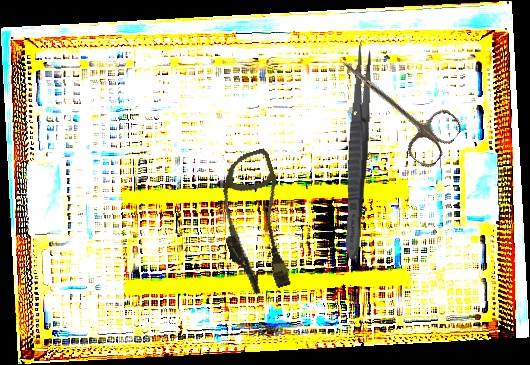Cannula: (203, 147, 307, 299)
Dressing Forceps: (341, 41, 375, 260)
Iris Scissors: (323, 41, 466, 172)
